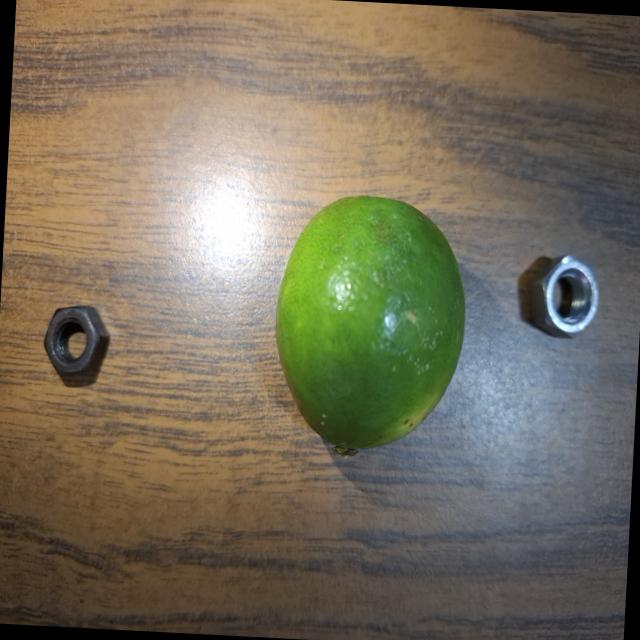limon: (264, 189, 473, 466)
milimetrico: (36, 300, 115, 390)
tuerca: (529, 250, 608, 350)
